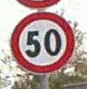limite 50: (10, 9, 74, 74)
